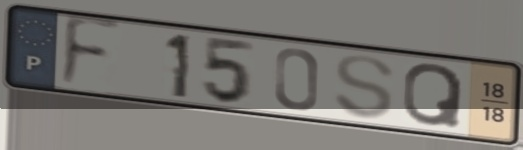0: (272, 45, 322, 112)
1: (162, 31, 194, 100)
5: (200, 33, 257, 106)
F: (56, 13, 126, 91)
Q: (400, 61, 467, 130)
S: (330, 52, 398, 122)
